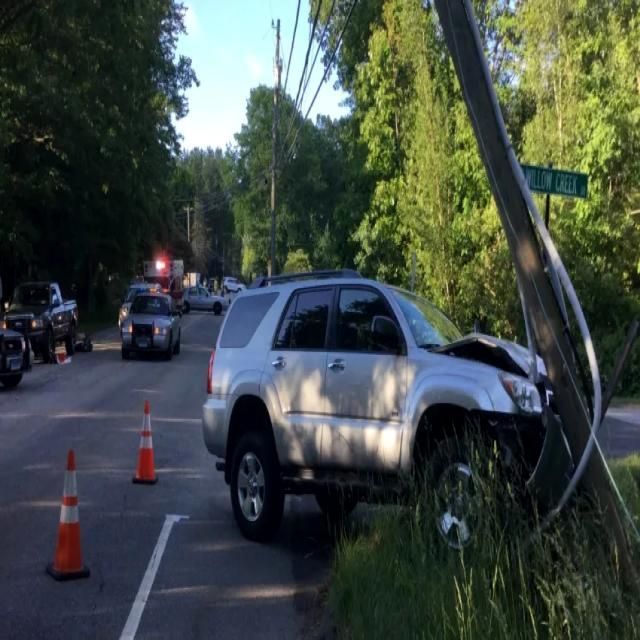Broken Pole: (423, 3, 640, 617)
